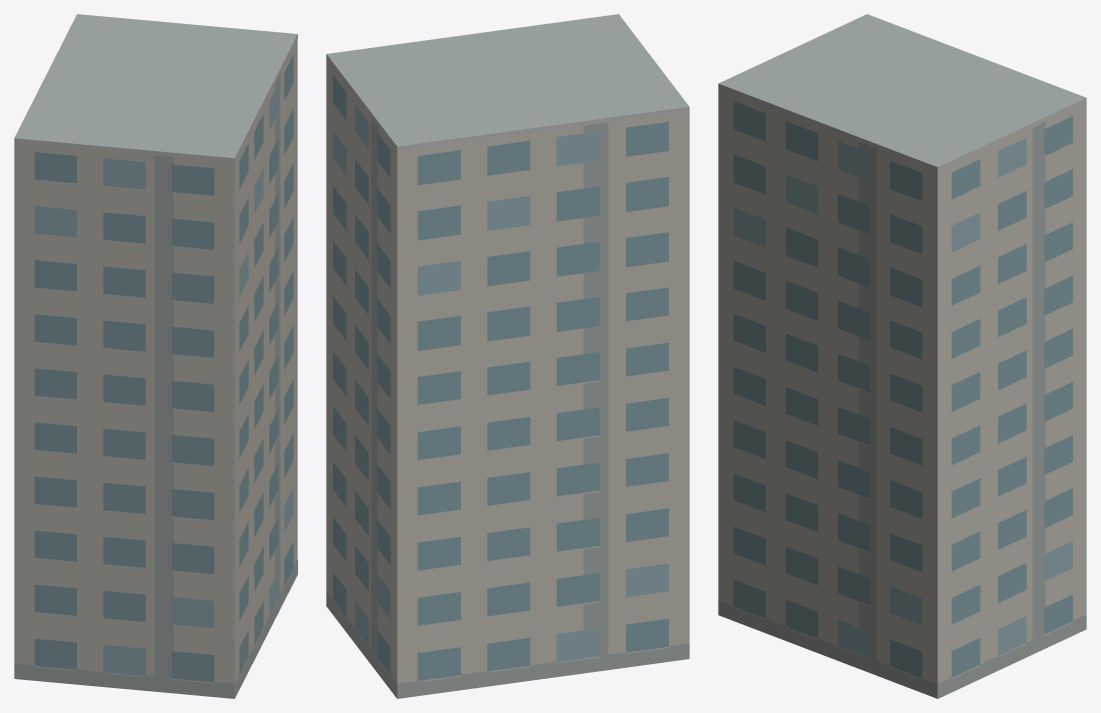
The model's file is residential-30defe20-7a1b-4f80-9b69-8665c877238f.glb.
The picture shows the model from 3 angles, left to right: view 1: azimuth 30°, elevation 25°; view 2: azimuth 150°, elevation 25°; view 3: azimuth 270°, elevation 25°; orthographic projection. The views are drawn at different scales.
Visible parts, largest first — view 1: residential-30defe20-7a1b-4f80-9b69-8665c877238f.tmp; view 2: residential-30defe20-7a1b-4f80-9b69-8665c877238f.tmp; view 3: residential-30defe20-7a1b-4f80-9b69-8665c877238f.tmp.
Boxes of the visible parts, box(x1,y1,x2,y2) form: residential-30defe20-7a1b-4f80-9b69-8665c877238f.tmp: box(14, 14, 297, 698); residential-30defe20-7a1b-4f80-9b69-8665c877238f.tmp: box(326, 14, 689, 698); residential-30defe20-7a1b-4f80-9b69-8665c877238f.tmp: box(718, 14, 1086, 698).
Size of the model in its own units: 17.32 by 28 by 17.59.
